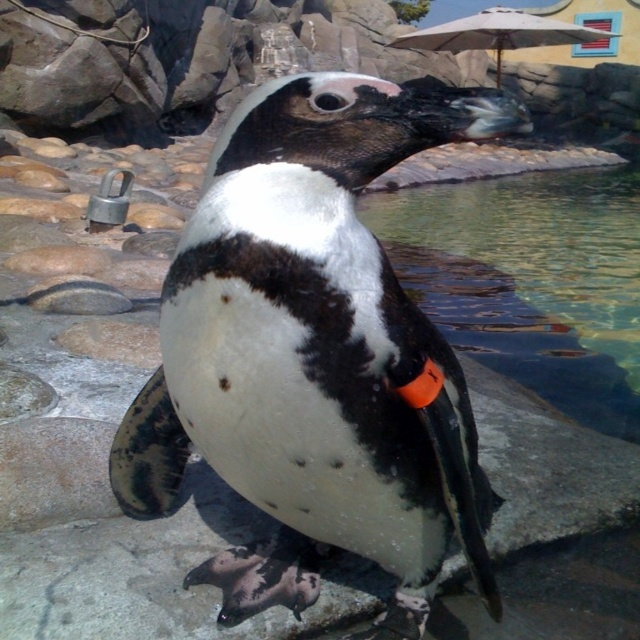Penguin: (108, 70, 535, 640)
